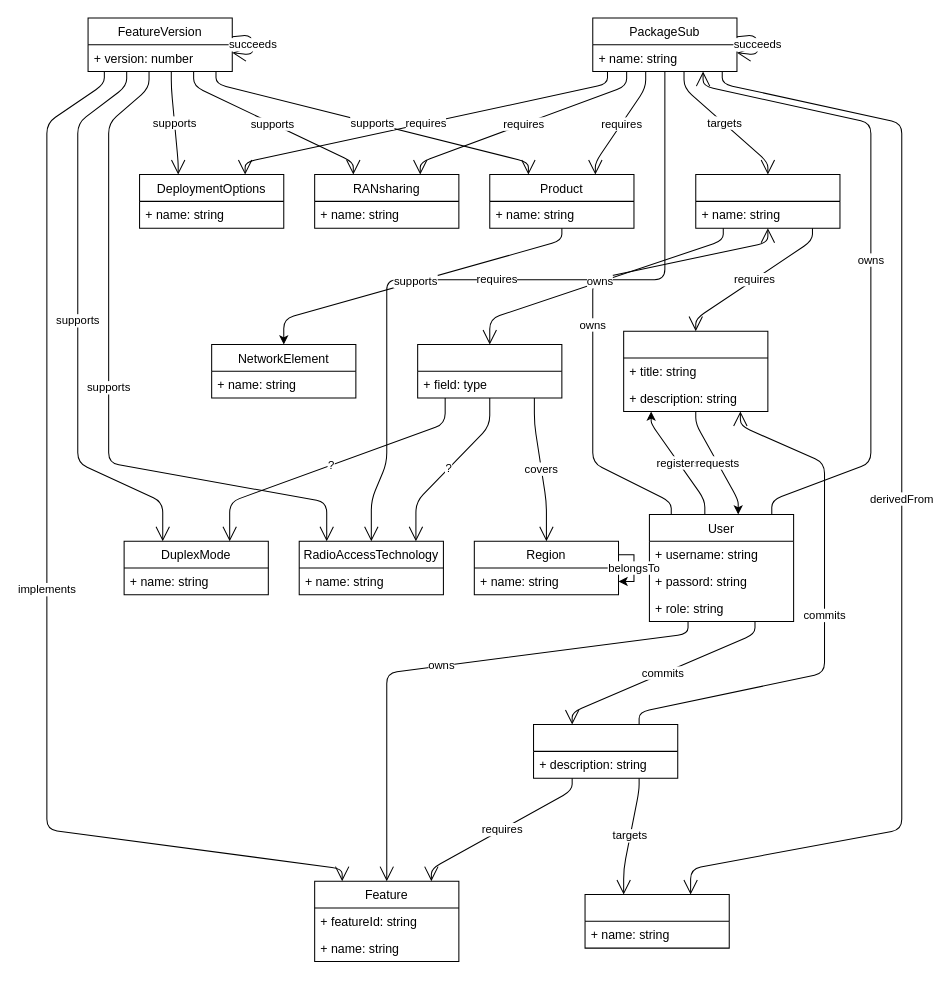
The diagram is 951 pixels wide and 983 high, and some of its shapes have lost their labels. The box of each missing label's shape, as (x1, y1, x2, y2) in pixels:
Commitment: (533, 724, 678, 778)
FrequencyAllocation: (417, 344, 562, 398)
Operator: (695, 174, 840, 228)
PackageMain: (584, 894, 729, 948)
Requirement: (623, 330, 768, 411)
